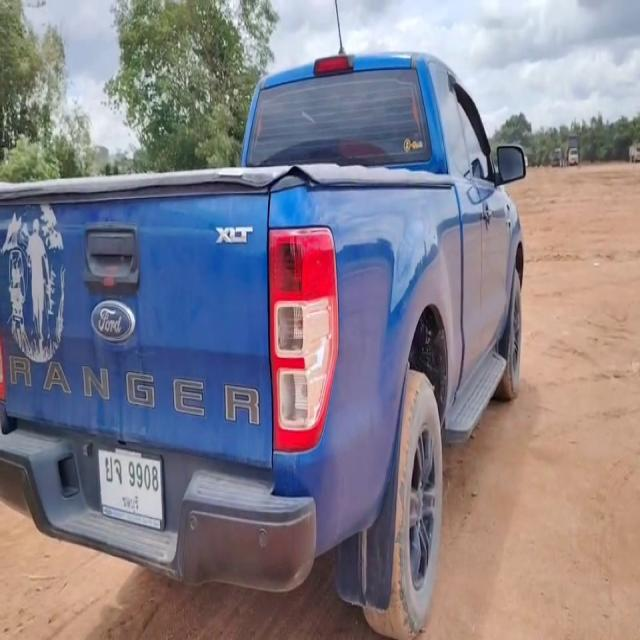Digit: (128, 459, 160, 495)
Licenseplate: (98, 445, 164, 531)
Provincename: (123, 491, 139, 514)
Thaichar: (105, 453, 122, 484)
